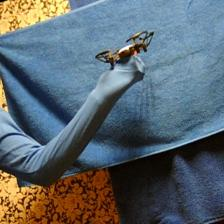drone: (94, 32, 155, 66)
